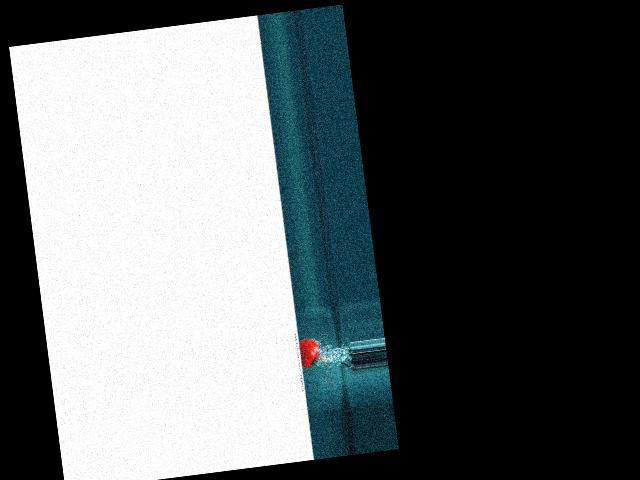tomato: (298, 337, 321, 369)
